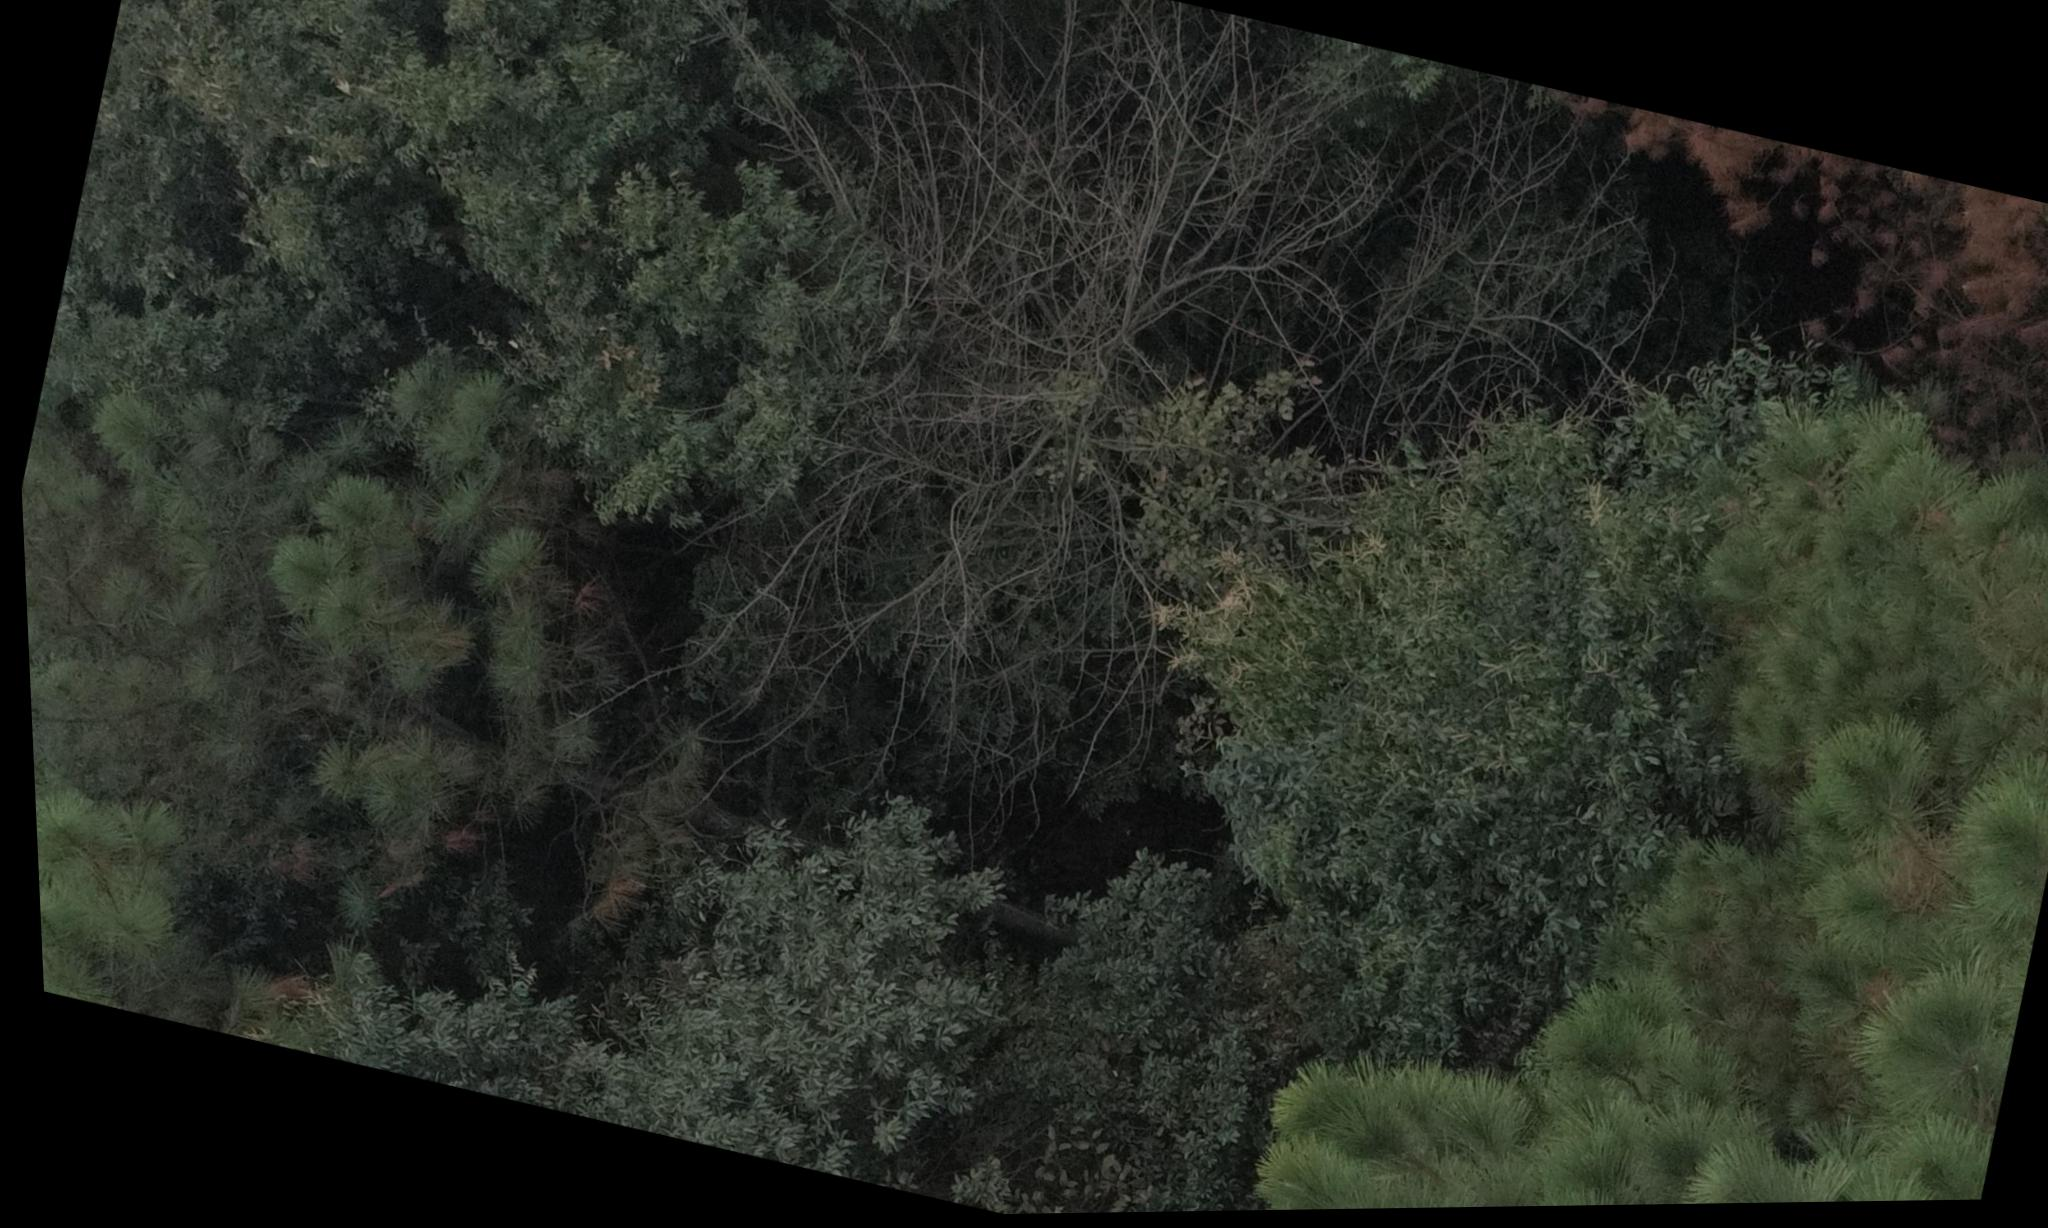dead: (672, 15, 1349, 857)
heavy: (1633, 132, 2048, 447)
